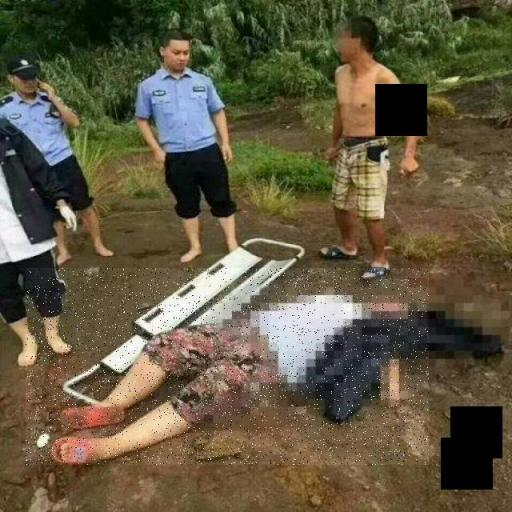Fall: (26, 268, 429, 465)
